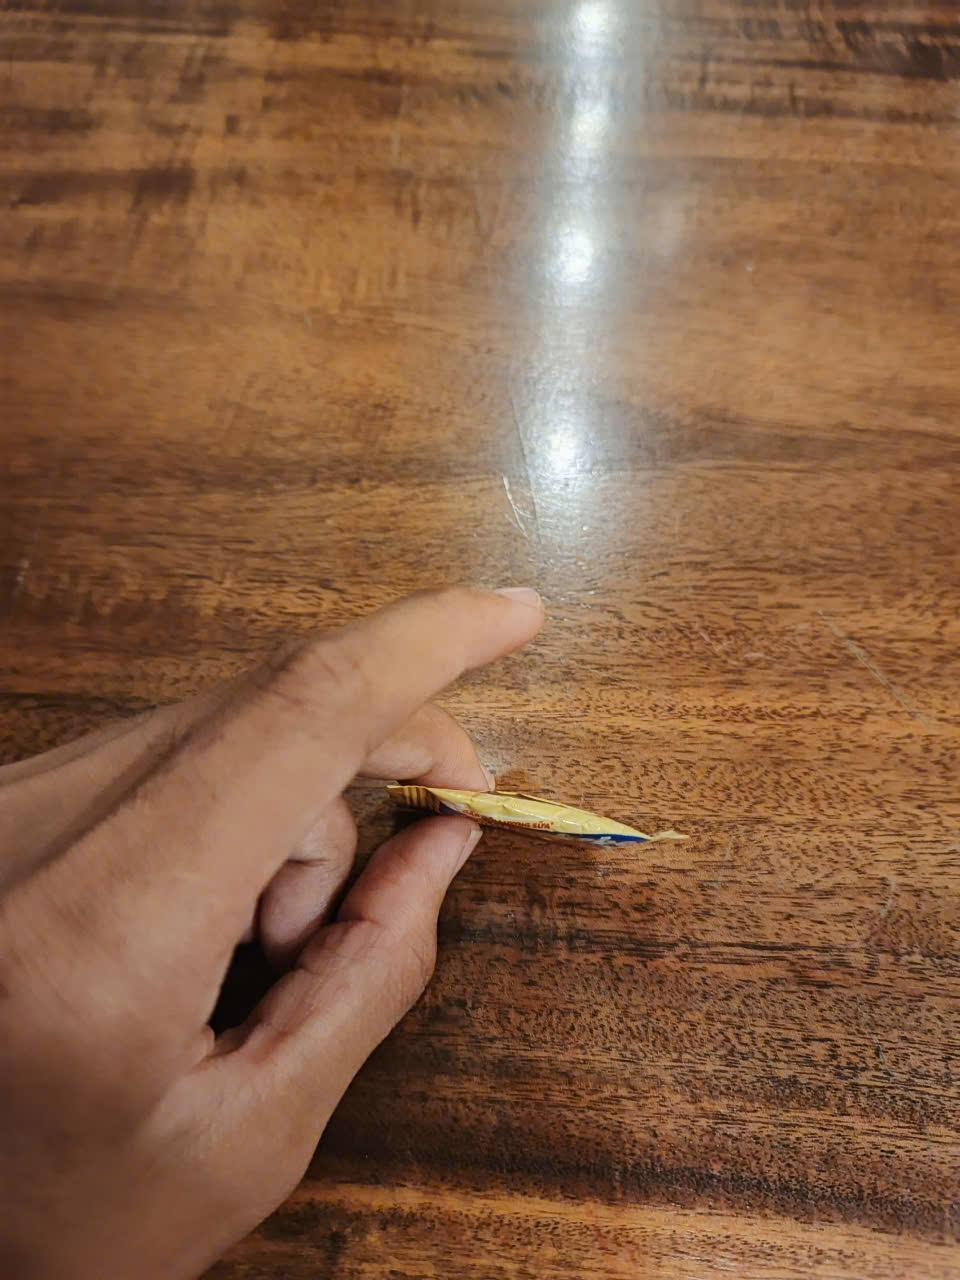Con lai: (423, 775, 658, 859)
